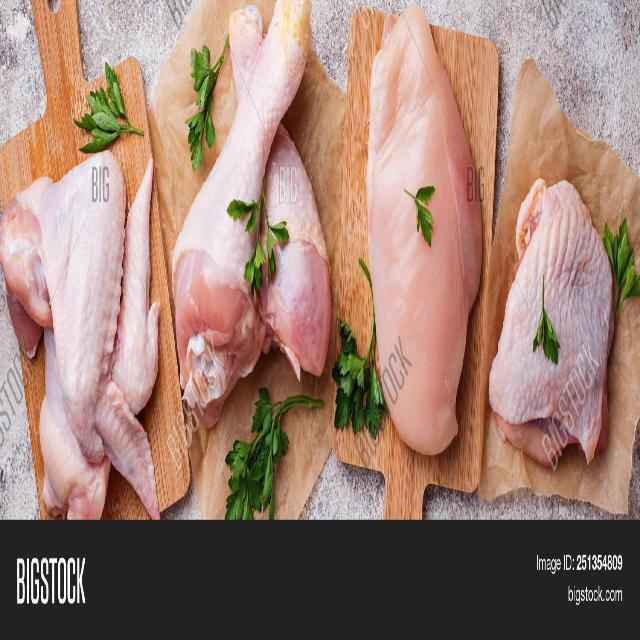Chicken: (171, 1, 330, 425), (2, 149, 161, 520), (368, 0, 483, 456), (490, 179, 615, 475)
